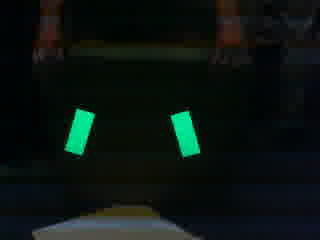target: (60, 105, 203, 160)
